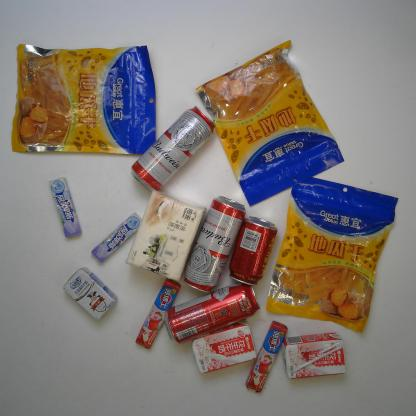Alcohol: (127, 104, 216, 194), (162, 283, 260, 344), (185, 196, 246, 293)
Candy: (243, 320, 288, 395), (134, 278, 180, 350), (91, 213, 142, 262), (48, 176, 82, 240)
Dried Fruit: (197, 40, 346, 206), (266, 174, 398, 332), (9, 44, 158, 154)
Drink: (228, 216, 277, 286)
Milk: (192, 322, 256, 377), (280, 332, 346, 381), (61, 268, 118, 322)
Tissue: (125, 190, 206, 283)
